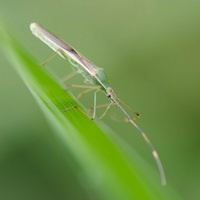insect: (30, 23, 165, 185)
